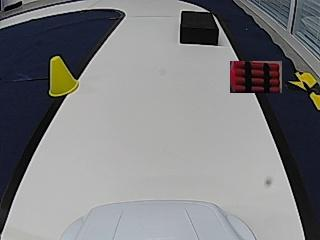block: (180, 11, 218, 45)
cone: (49, 57, 78, 94)
